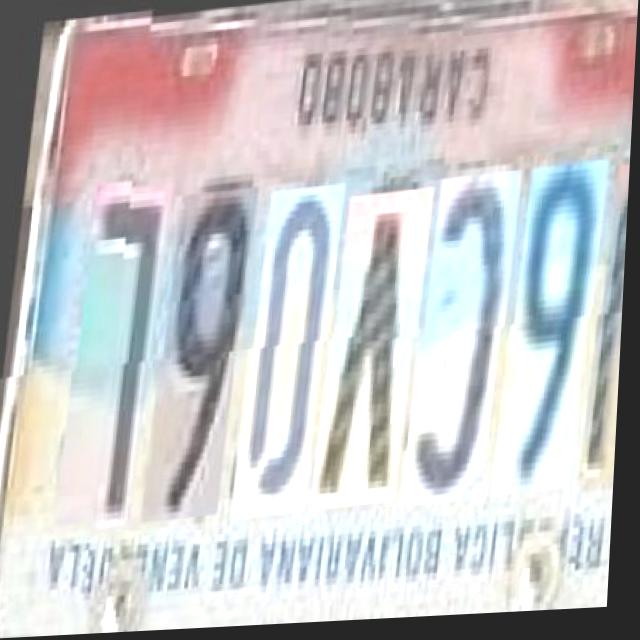0: (234, 182, 337, 516)
6: (494, 165, 602, 500), (143, 184, 251, 518)
c: (403, 173, 514, 507)
l: (57, 178, 165, 526)
u: (583, 160, 632, 492)
v: (314, 188, 427, 509)
